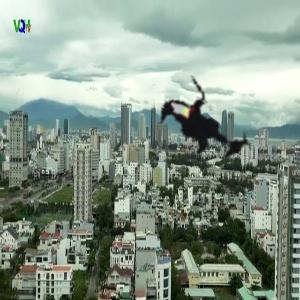drone: (135, 47, 285, 197)
